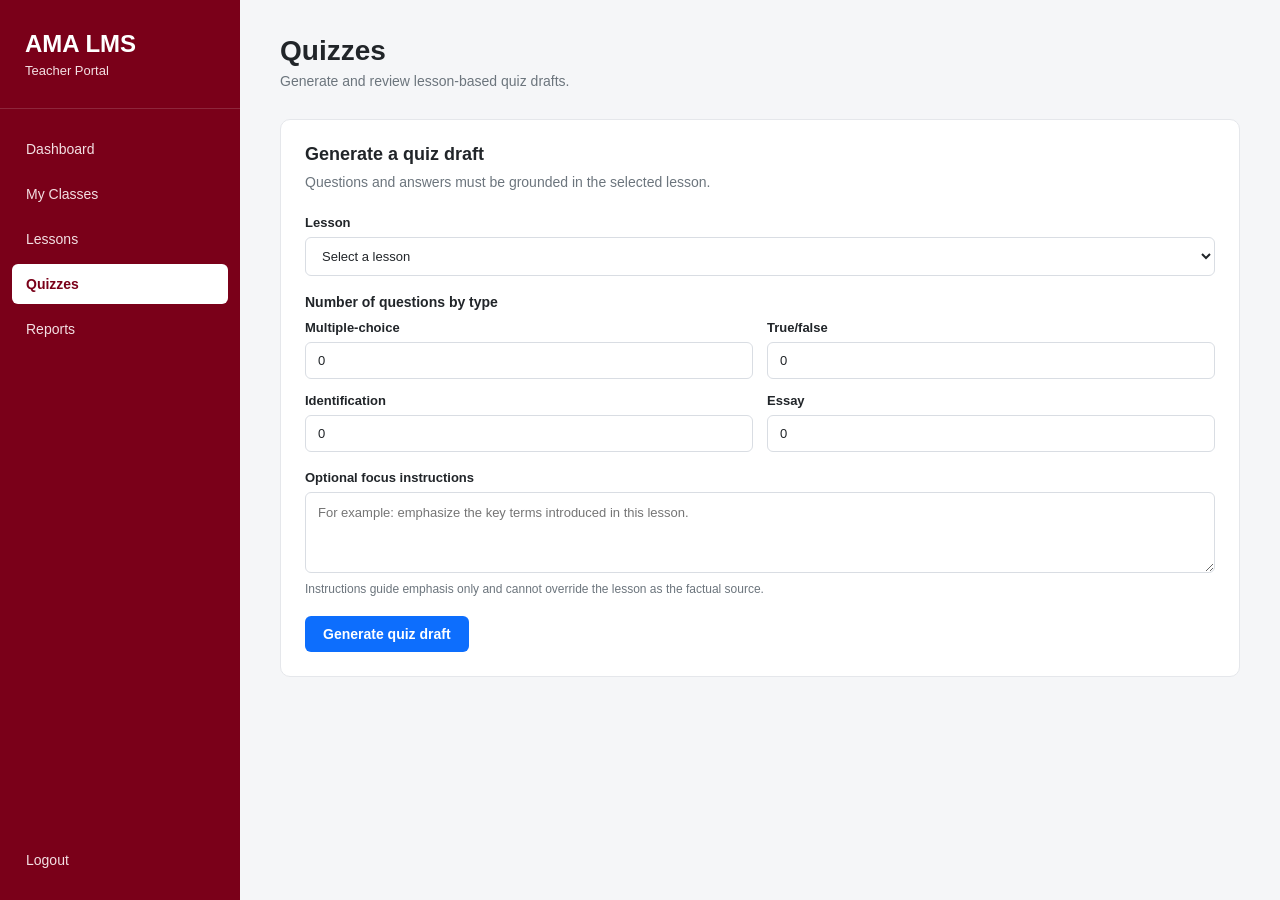
Test case: teacher quiz review › does not expose provider details or secrets in error states
Select "Cell Energy — ATP (draft)" in the dropdown labelled "Lesson": {"x": 760, "y": 256} [305,237,1215,276]
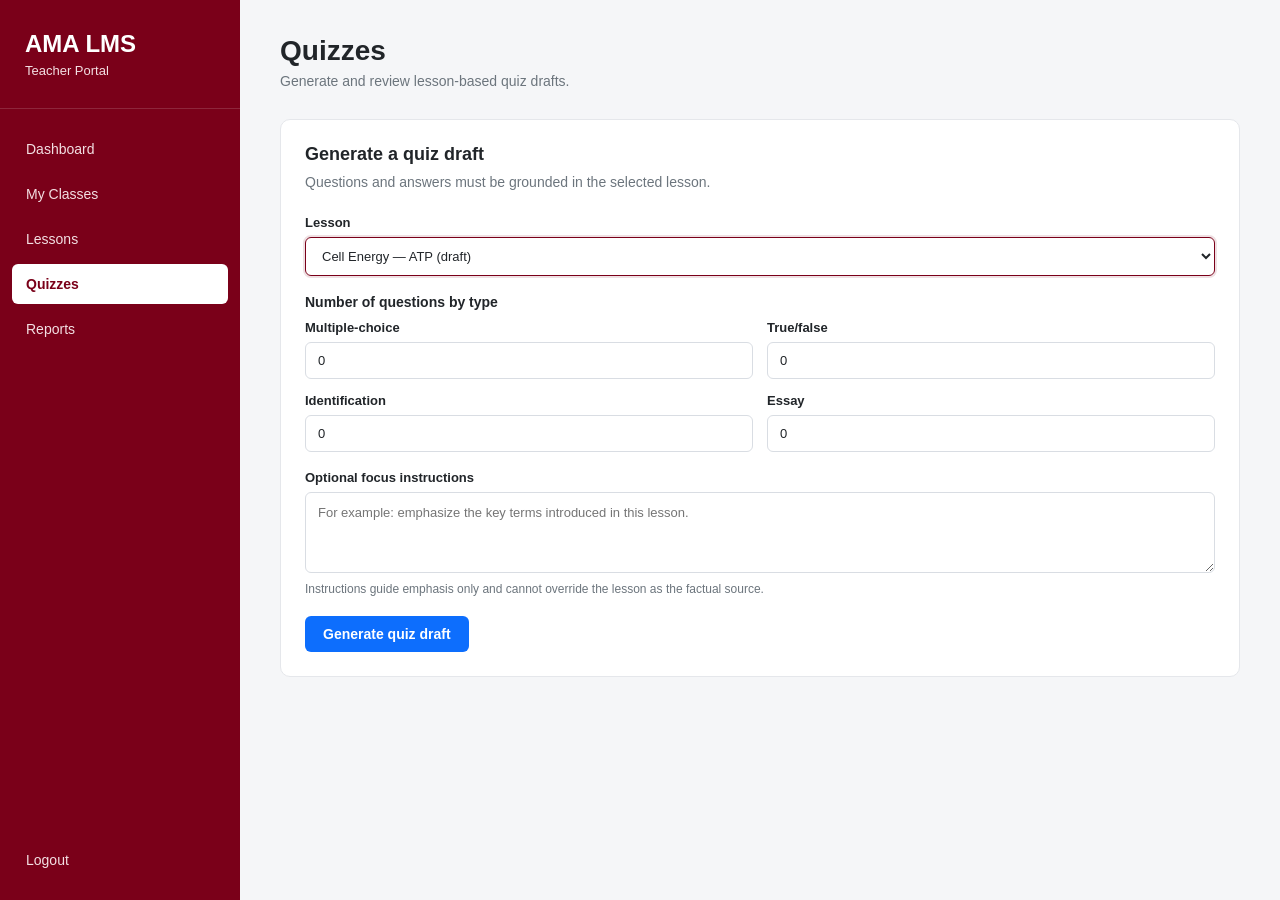
Replace the text in the number field named "Multiple-choice count" with "1": {"x": 529, "y": 360} [305,342,753,379]
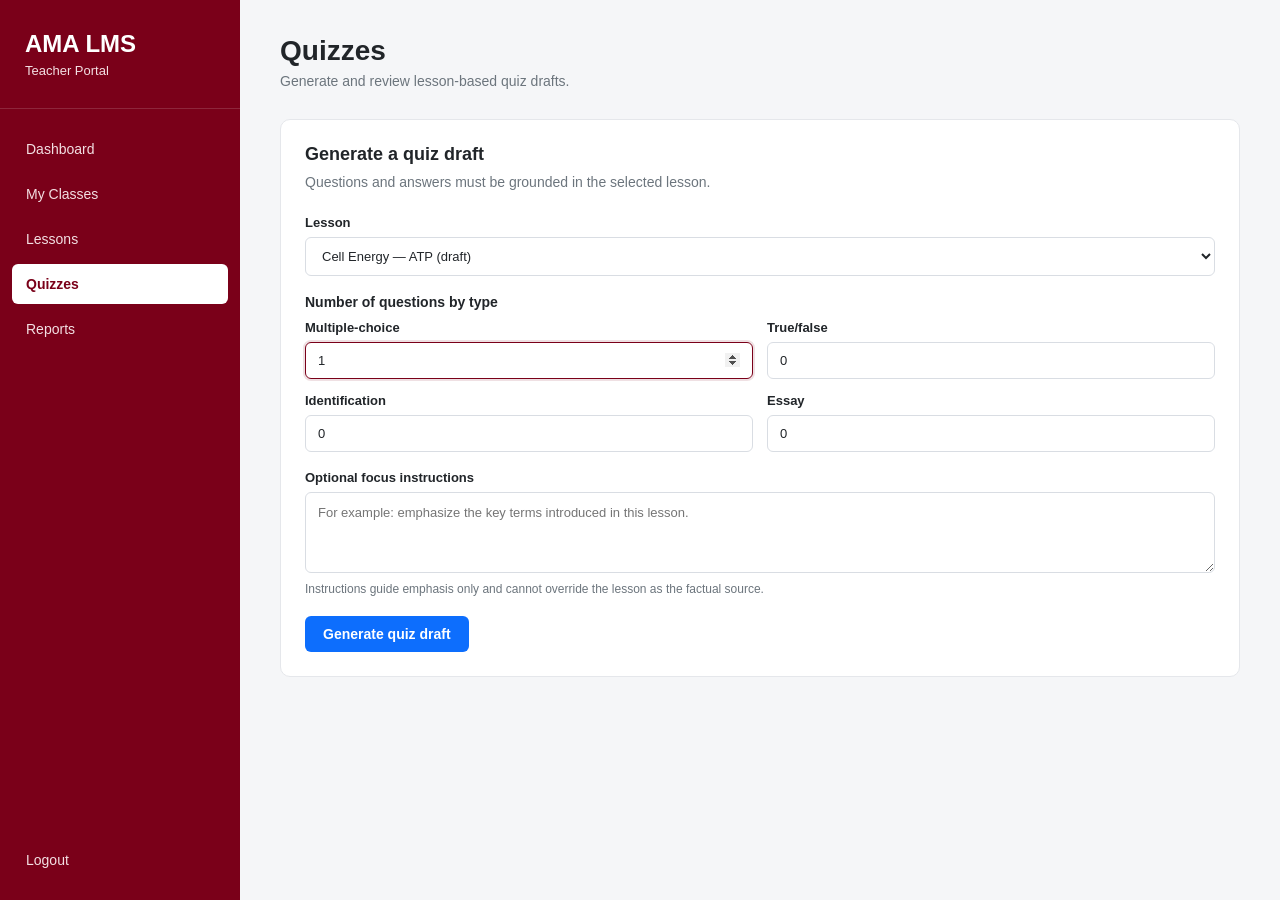
Click the button "Generate quiz draft": {"x": 387, "y": 634} [305,616,469,652]
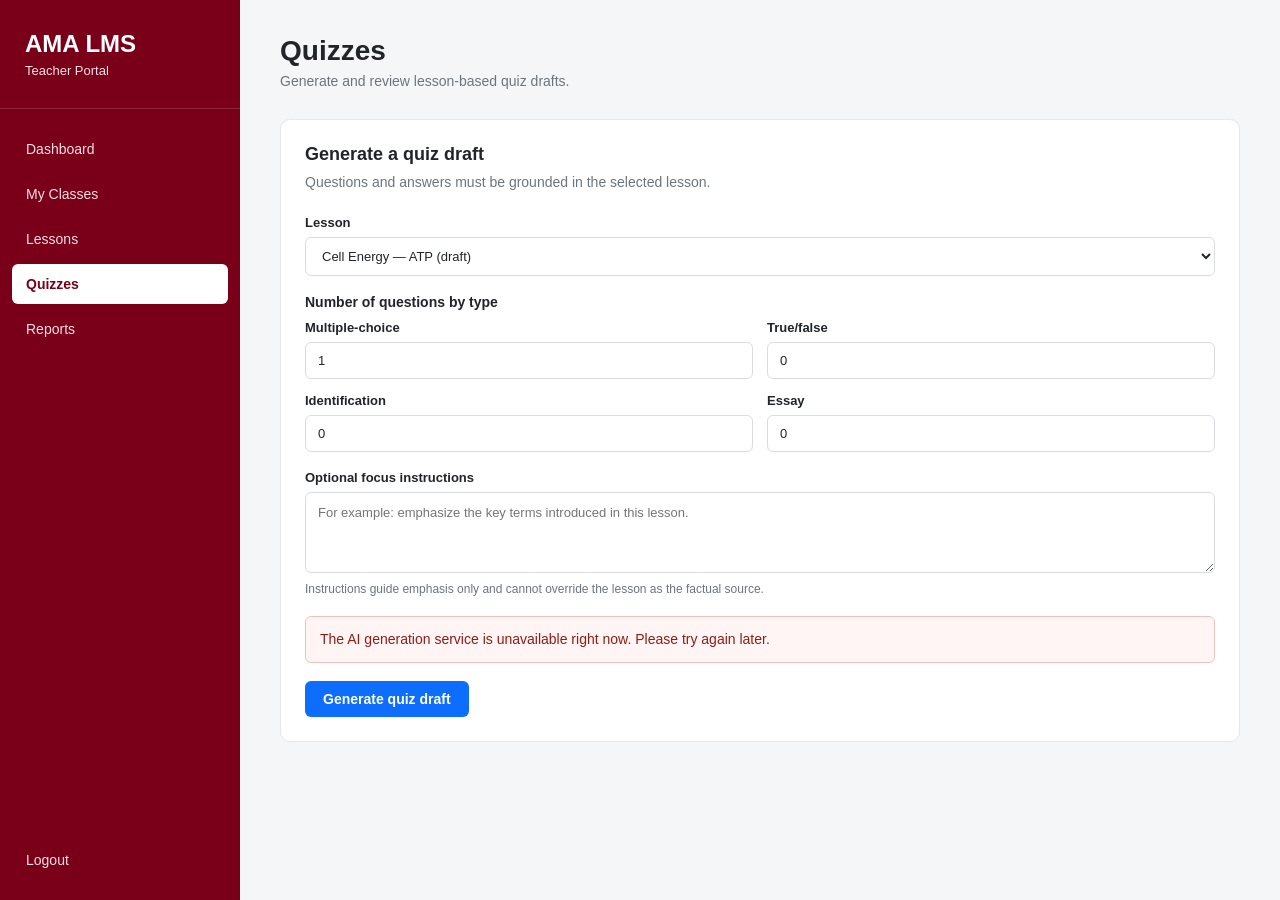
expect the text "The AI generation service is unavailable right now. Please try again later." is shown: met, box [305,616,1215,662]
